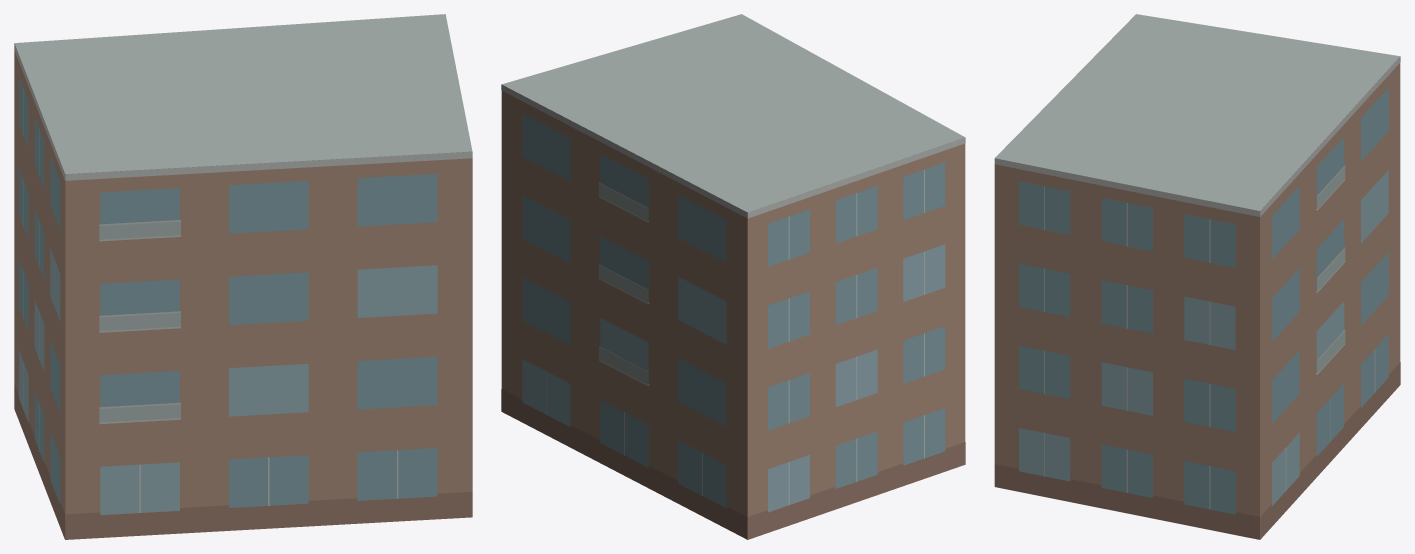
Rendered from survey-upis-32703323.glb.
The picture shows the model from 3 angles, left to right: view 1: azimuth 30°, elevation 25°; view 2: azimuth 150°, elevation 25°; view 3: azimuth 270°, elevation 25°; orthographic projection. The views are drawn at different scales.
Visible parts, largest first — view 1: survey-upis-32703323.tmp; view 2: survey-upis-32703323.tmp; view 3: survey-upis-32703323.tmp.
Boxes of the visible parts, x1=… form: survey-upis-32703323.tmp: x1=14, y1=14, x2=472, y2=539; survey-upis-32703323.tmp: x1=501, y1=14, x2=965, y2=539; survey-upis-32703323.tmp: x1=994, y1=14, x2=1400, y2=539.
Bounding box in the file's own units: 17.11 × 13.3 × 14.89.
